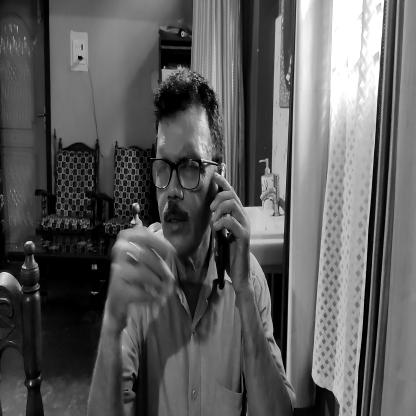Distracted: (154, 90, 213, 251)
